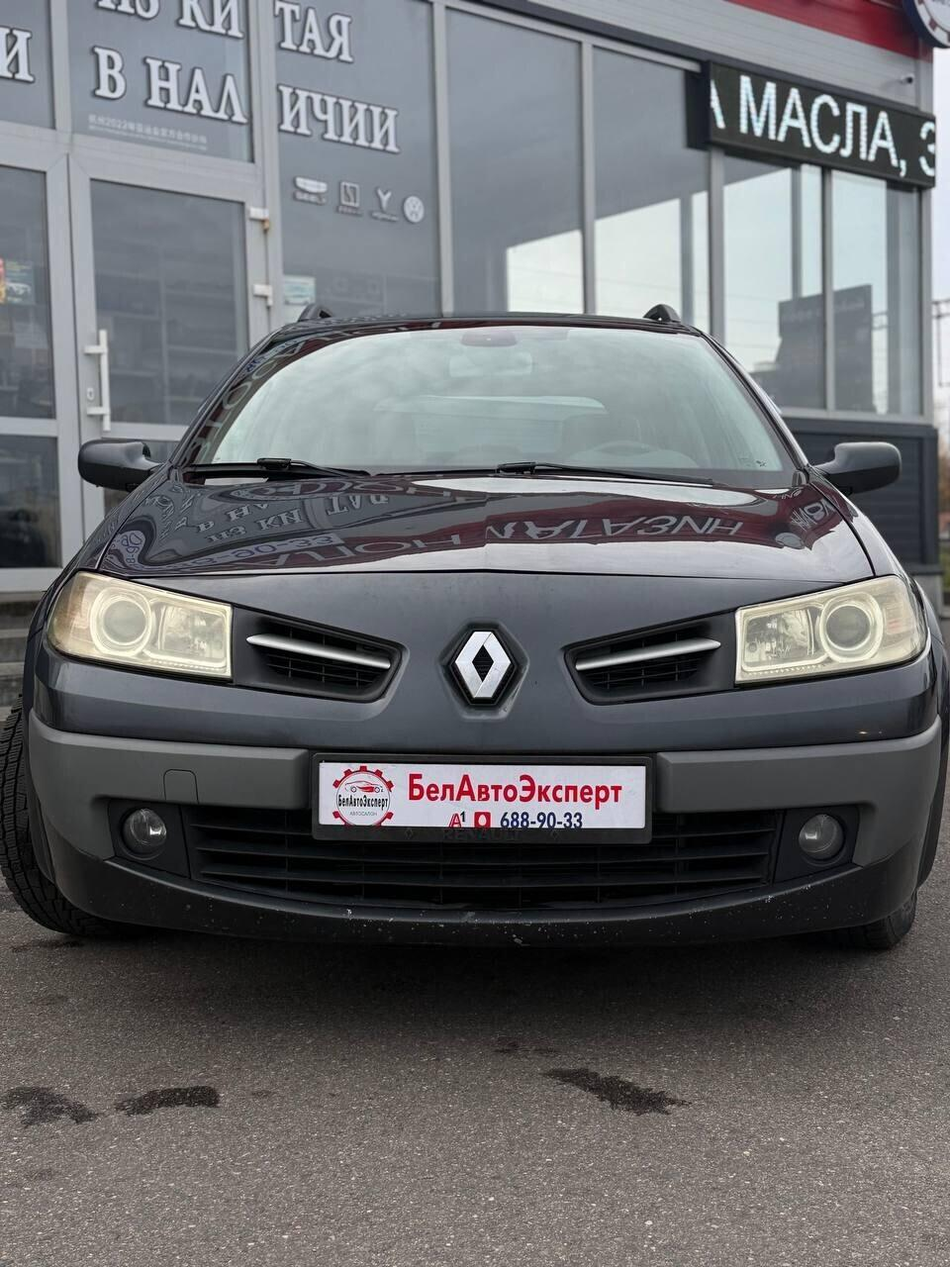Megane_2005-2009: (0, 294, 950, 970)
